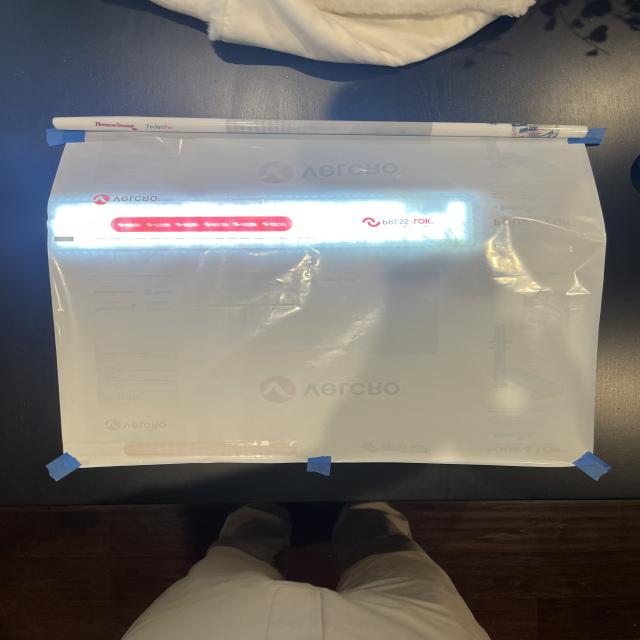zip_s: (114, 218, 290, 232)
